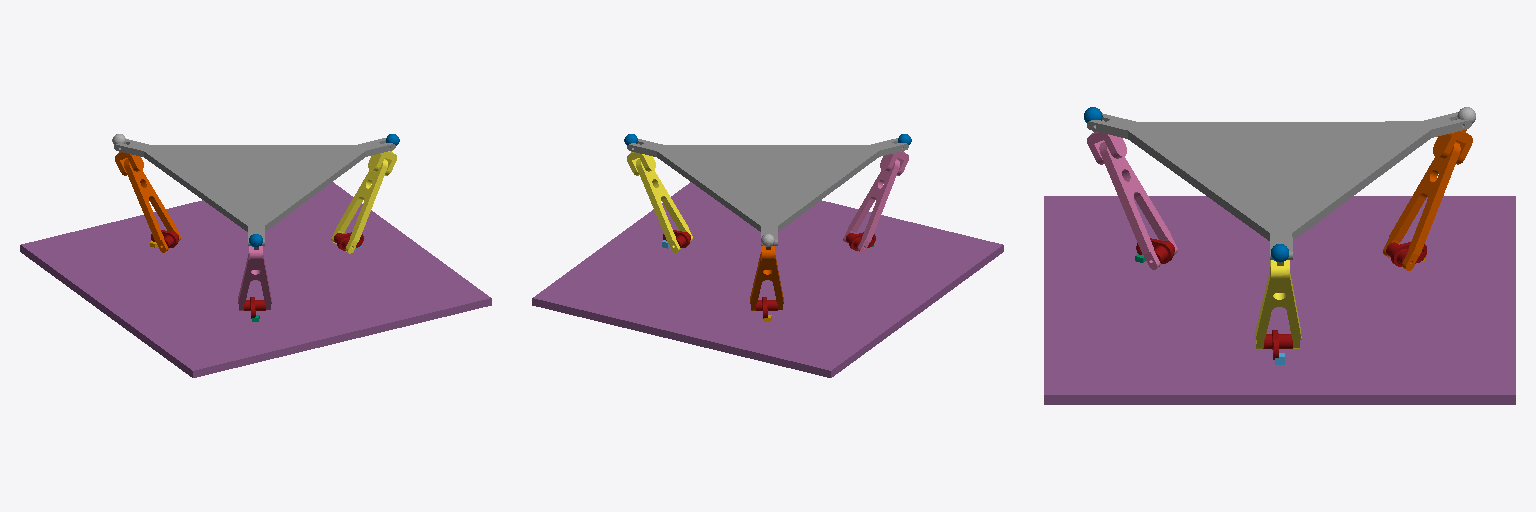
The robot description file, URDF, robot "stewart_platform":
<?xml version="1.0" ?>
<robot name="stewart_platform" xmlns:xacro="http://www.ros.org/wiki/xacro">
    <!-- BASE PRINCIPAL -->
<link name="base_link">
    <inertial>
        <origin xyz="0 0 0" rpy="0 0 0"/>
        <mass value="1.0"/>
        <inertia 
            ixx="0.01" iyy="0.01" izz="0.01" 
            ixy="0" ixz="0" iyz="0"/>
    </inertial>
    
    <visual>
        <origin xyz="0 0 0" rpy="0 0 0"/>
        <geometry>
            <box size="0.25 0.25 0.006"/>
        </geometry>
        <material name="gray">
            <color rgba="0.6 0.4 0.6 0.5"/>
        </material>
    </visual>

    <collision>
        <origin xyz="0 0 0" rpy="0 0 0"/>
        <geometry>
            <box size="0.25 0.25 0.006"/>
        </geometry>
    </collision>
</link>


    <!-- DOT 1 (derecha) -->
    <link name="dot1_base">
        <inertial>
            <origin xyz="0 0 0" rpy="0 0 0"/>
            <mass value="0.025"/>
            <inertia 
                ixx="1e-6" iyy="1e-6" izz="1e-6" 
                ixy="0" ixz="0" iyz="0"/>
        </inertial>
        <visual>
            <origin xyz="0 0 0" rpy="0 0 0"/>
            <geometry>
                <box size="0.005 0.005 0.005"/>
            </geometry>
            <material name="grey"/>
        </visual>
    </link>
    <joint name="joint_dot1_base" type="fixed">
        <parent link="base_link"/>
        <child link="dot1_base"/>
        <origin xyz="0.085 0 0.005" rpy="0 0 0"/>
    </joint>

    <link name="dot1">
        <inertial>
            <origin xyz="0 0 0" rpy="0 0 0"/>
            <mass value="0.025"/>
            <inertia 
                ixx="1e-6" iyy="1e-6" izz="1e-6" 
                ixy="0" ixz="0" iyz="0"/>
        </inertial>
        <visual>
            <origin xyz="-0.012 0.007 0" rpy="-1.55 1.571 3.2"/>
            <geometry>
                <mesh filename="meshes/dot.stl" scale="0.001 0.001 0.001"/>
            </geometry>
            <material name="red">
                <color rgba="0.6 0.1 0.1 1"/>
            </material>
        </visual>
        <collision>
            <origin xyz="-0.012 0.007 0" rpy="-1.55 1.571 3.2"/>
            <geometry>
                <mesh filename="meshes/dot.stl" scale="0.001 0.001 0.001"/>
            </geometry>
        </collision>
    </link>

    <joint name="joint_dot1" type="revolute">
        <parent link="dot1_base"/>
        <child link="dot1"/>
        <origin xyz="0 0 0.005" rpy="0 0 0"/> <!-- justo encima del cubito -->
        <axis xyz="0 1 0"/> <!-- eje X para que gire hacia arriba -->
        <limit lower="-1.57" upper="1.57" effort="1" velocity="1"/>
    </joint>

    <link name="arm1">
        <inertial>
            <origin xyz="0 0 0" rpy="0 0 0"/>
            <mass value="0.03"/> <!-- Aproximadamente 30g si es PLA -->
            <inertia 
                ixx="1e-6" iyy="1e-6" izz="1e-6" 
                ixy="0" ixz="0" iyz="0"/>
        </inertial>

        <visual>
            <origin xyz="0.0314 0.000 0.0583" rpy="2.1 0 1.6"/>
            <geometry>
                <mesh filename="meshes/arm.stl" scale="0.001 0.001 0.001"/>
            </geometry>
            <material name="blue"/>
        </visual>

        <collision>
            <origin xyz="0.0314 0.000 0.0583" rpy="2.1 0 1.6"/>
            <geometry>
                <mesh filename="meshes/arm.stl" scale="0.001 0.001 0.001"/>
            </geometry>
        </collision>
    </link>


    <joint name="joint_arm1" type="revolute">
        <parent link="dot1"/>
        <child link="arm1"/>
        <origin xyz="-0.012 0 -0.00" rpy="0 0 0"/>
        <axis xyz="0 1 0"/> <!-- Eje de rotación: X -->
        <limit lower="-1.57" upper="1.57" effort="1.0" velocity="1.0"/>
    </joint>

<link name="arm1_tip">
    <inertial>
        <origin xyz="0 0 0" rpy="0 0 0"/>
        <mass value="0.01"/> <!-- Aproximadamente 10g -->
        <inertia 
            ixx="1e-6" iyy="1e-6" izz="1e-6" 
            ixy="0" ixz="0" iyz="0"/>
    </inertial>

    <visual>
        <origin xyz="0 0 0.0" rpy="0 0 0"/>
        <geometry>
            <sphere radius="0.005"/>
        </geometry>
        <material name="green"/>
    </visual>

    <collision>
        <origin xyz="0 0 0.0" rpy="0 0 0"/>
        <geometry>
            <sphere radius="0.005"/>
        </geometry>
    </collision>
</link>


    <joint name="joint_arm1_tip_x" type="revolute">
        <parent link="arm1"/>
        <child link="arm1_tip"/>
        <origin xyz="0.0415 0.0 0.071" rpy="0 0 0"/> <!-- ajustar según longitud exacta del brazo -->
        <axis xyz="1 0 0"/>
        <limit lower="-1.57" upper="1.57" effort="1" velocity="1"/>
    </joint>
    <joint name="joint_arm1_tip_y" type="revolute">
        <parent link="arm1_tip"/>
        <child link="top"/>
        <origin xyz="0 0 0" rpy="0 0 0"/> 
        <axis xyz="0 1 0"/>
        <limit lower="-1.57" upper="1.57" effort="1" velocity="1"/>
    </joint>
    
<link name="arm2">
    <inertial>
        <origin xyz="0 0 0" rpy="0 0 0"/>
        <mass value="0.025"/> <!-- Aproximadamente 25g -->
        <inertia 
            ixx="1e-5" iyy="1e-5" izz="1e-5" 
            ixy="0" ixz="0" iyz="0"/>
    </inertial>

    <visual>
        <origin xyz="0.0314 0.000 0.0583" rpy="2.1 0 1.6"/>
        <geometry>
            <mesh filename="meshes/arm.stl" scale="0.001 0.001 0.001"/>
        </geometry>
        <material name="blue"/>
    </visual>

    <collision>
        <origin xyz="0.0314 0.000 0.0583" rpy="2.1 0 1.6"/>
        <geometry>
            <mesh filename="meshes/arm.stl" scale="0.001 0.001 0.001"/>
        </geometry>
    </collision>
</link>


    <joint name="joint_arm2" type="revolute">
        <parent link="dot2"/>
        <child link="arm2"/>
        <origin xyz="-0.012 0 -0.00" rpy="0 0 0"/>
        <axis xyz="0 1 0"/>
        <limit lower="-1.57" upper="1.57" effort="1.0" velocity="1.0"/>
    </joint>

<link name="arm3">
    <inertial>
        <origin xyz="0 0 0" rpy="0 0 0"/>
        <mass value="0.025"/> <!-- Masa estimada para brazo impreso en PLA -->
        <inertia 
            ixx="1e-5" iyy="1e-5" izz="1e-5" 
            ixy="0" ixz="0" iyz="0"/>
    </inertial>

    <visual>
        <origin xyz="0.0314 0.000 0.0583" rpy="2.1 0 1.6"/>
        <geometry>
            <mesh filename="meshes/arm.stl" scale="0.001 0.001 0.001"/>
        </geometry>
        <material name="blue"/>
    </visual>

    <collision>
        <origin xyz="0.0314 0.000 0.0583" rpy="2.1 0 1.6"/>
        <geometry>
            <mesh filename="meshes/arm.stl" scale="0.001 0.001 0.001"/>
        </geometry>
    </collision>
</link>


<link name="arm2_tip">
    <inertial>
        <origin xyz="0 0 0" rpy="0 0 0"/>
        <mass value="0.005"/> <!-- Muy ligera, es solo una esfera de marcador -->
        <inertia 
            ixx="1e-6" iyy="1e-6" izz="1e-6" 
            ixy="0" ixz="0" iyz="0"/>
    </inertial>

    <visual>
        <origin xyz="0 0 0.0" rpy="0 0 0"/>
        <geometry>
            <sphere radius="0.005"/>
        </geometry>
        <material name="green"/>
    </visual>

    <collision>
        <origin xyz="0 0 0.0" rpy="0 0 0"/>
        <geometry>
            <sphere radius="0.005"/>
        </geometry>
    </collision>
</link>


    <joint name="joint_arm2_tip_x" type="revolute">
        <parent link="arm2"/>
        <child link="arm2_tip"/>
        <origin xyz="0.0415 0.0 0.071" rpy="0 0 0"/>  <!-- Longitud del brazo -->
        <axis xyz="1 0 0"/>
        <limit lower="-1.57" upper="1.57" effort="1" velocity="1"/>
    </joint>
    <!--     <joint name="joint_arm2_tip_y" type="revolute">
        <parent link="arm2_tip"/>
        <child link="top"/>
        <origin xyz="0 0 0" rpy="0 0 0"/>
        <axis xyz="0 1 0"/>
        <limit lower="-1.57" upper="1.57" effort="1" velocity="1"/>
    </joint> -->

    <joint name="joint_arm3" type="revolute">
        <parent link="dot3"/>
        <child link="arm3"/>
        <origin xyz="-0.012 0 -0.00" rpy="0 0 0"/>
        <axis xyz="0 1 0"/>
        <limit lower="-1.57" upper="1.57" effort="1.0" velocity="1.0"/>
    </joint>

<link name="dot2_base">
    <inertial>
        <origin xyz="0 0 0" rpy="0 0 0"/>
        <mass value="0.000125"/>
        <inertia 
            ixx="1e-7" iyy="1e-7" izz="1e-7" 
            ixy="0" ixz="0" iyz="0"/>
    </inertial>

    <visual>
        <origin xyz="0 0.00 0" rpy="0 0 0.45"/>
        <geometry>
            <box size="0.005 0.005  0.003"/>
        </geometry>
        <material name="grey"/>
    </visual>

 
</link>


    <joint name="joint_dot2_base" type="fixed">
        <parent link="base_link"/>
        <child link="dot2_base"/>
        <origin xyz="-0.0425 0.0736 0.005" rpy="0 0 0"/>
    </joint>

<link name="dot2">
    <inertial>
        <origin xyz="0 0 0" rpy="0 0 0"/>
        <mass value="0.025"/>
        <inertia 
            ixx="1e-6" iyy="1e-6" izz="1e-6" 
            ixy="0" ixz="0" iyz="0"/>
    </inertial>

    <visual>
        <origin xyz="-0.012 0.007 0" rpy="-1.55 1.571 3.2"/>
        <geometry>
            <mesh filename="meshes/dot.stl" scale="0.001 0.001 0.001"/>
        </geometry>
        <material name="red">
           <color rgba="0.6 0.1 0.1 1"/>
        </material>
    </visual>

    <collision>
        <origin xyz="-0.012 0.007 0" rpy="-1.55 1.571 3.2"/>
        <geometry>
            <mesh filename="meshes/dot.stl" scale="0.001 0.001 0.001"/>
        </geometry>
    </collision>
</link>


    <joint name="joint_dot2" type="revolute">
        <parent link="dot2_base"/>
        <child link="dot2"/>
        <origin xyz="0 0 0.005" rpy="0 0 2.0944"/> <!-- rotado 120° = 2π/3 -->
        <axis xyz="0 1 0"/>
        <limit lower="-1.57" upper="1.57" effort="1" velocity="1"/>
    </joint>



    <!-- DOT 3 (inferior izquierda) -->
<link name="dot3_base">
    <inertial>
        <origin xyz="0 0 0" rpy="0 0 0"/>
        <mass value="0.01"/>
        <inertia 
            ixx="1e-6" iyy="1e-6" izz="1e-6"
            ixy="0" ixz="0" iyz="0"/>
    </inertial>
    
    <visual>
        <origin xyz="0 0 0" rpy="0 0 -0.55"/>
        <geometry>
            <box size="0.005 0.005  0.003"/>
        </geometry>
        <material name="grey"/>
    </visual>
    

</link>


    <joint name="joint_dot3_base" type="fixed">
        <parent link="base_link"/>
        <child link="dot3_base"/>
        <origin xyz="-0.0425 -0.0736 0.005" rpy="0 0 0"/>
    </joint>

<link name="dot3">
    <inertial>
        <origin xyz="0 0 0" rpy="0 0 0"/>
        <mass value="0.025"/>
        <inertia 
            ixx="1e-6" iyy="1e-6" izz="1e-6" 
            ixy="0" ixz="0" iyz="0"/>
    </inertial>

    <visual>
        <origin xyz="-0.012 0.007 0" rpy="-1.55 1.571 3.2"/>
        <geometry>
            <mesh filename="meshes/dot.stl" scale="0.001 0.001 0.001"/>
        </geometry>
        <material name="red">
            <color rgba="0.6 0.1 0.1 1"/>
        </material>
    </visual>

    <collision>
        <origin xyz="-0.012 0.007 0" rpy="-1.55 1.571 3.2"/>
        <geometry>
            <mesh filename="meshes/dot.stl" scale="0.001 0.001 0.001"/>
        </geometry>
    </collision>

</link>



    <joint name="joint_dot3" type="revolute">
        <parent link="dot3_base"/>
        <child link="dot3"/>
        <origin xyz="0 0 0.005" rpy="0 0 -2.0944"/> <!-- rotado -120° = -2π/3 -->
        <axis xyz="0 1 0"/>
        <limit lower="-1.57" upper="1.57" effort="1" velocity="1"/>
    </joint>

<link name="arm3_tip">
    <inertial>
        <origin xyz="0 0 0" rpy="0 0 0"/>
        <mass value="0.005"/>
        <inertia 
            ixx="1e-7" iyy="1e-7" izz="1e-7" 
            ixy="0" ixz="0" iyz="0"/>
    </inertial>
    
    <visual>
        <origin xyz="0 0 0" rpy="0 0 0"/>
        <geometry>
            <sphere radius="0.005"/>
        </geometry>
        <material name="green"/>
    </visual>
    
    <collision>
        <origin xyz="0 0 0" rpy="0 0 0"/>
        <geometry>
            <sphere radius="0.005"/>
        </geometry>
    </collision>
</link>


    <joint name="joint_arm3_tip_x" type="revolute">
        <parent link="arm3"/>
        <child link="arm3_tip"/>
        <origin xyz="0.0415 0.0 0.071" rpy="0 0 0"/> 
        <axis xyz="1 0 0"/>
        <limit lower="-1.57" upper="1.57" effort="1" velocity="1"/>
    </joint>
    <!-- 
    <joint name="joint_arm3_tip_y" type="revolute">
        <parent link="arm3_tip"/>
        <child link="top"/>

        <origin xyz="0 0 0" rpy="0 0 0"/>
        <axis xyz="0 1 0"/>
        <limit lower="-1.57" upper="1.57" effort="1" velocity="1"/>
    </joint> -->

<link name="top">
    <visual>
        <origin xyz="-0.115 0 -0.005" rpy="0 0 -0.15"/> 
        <geometry>
            <mesh filename="meshes/triangle_filled.stl" scale="0.001 0.001 0.001"/>
        </geometry>
        <material name="top_glass">
            <color rgba="0.6 0.6 0.6 0.15"/>
        </material>
    </visual>

    <collision>
        <origin xyz="-0.115 0 -0.005" rpy="0 0 -0.15"/> 
        <geometry>
            <mesh filename="meshes/triangle_filled.stl" scale="0.001 0.001 0.001"/>
        </geometry>
    </collision>
</link>

<!-- 
    <joint name="joint_top" type="revolute">
        <parent link="arm1_tip"/>
        <child link="top"/>
        <origin xyz="0 0 0.005" rpy="0 0 0"/>
        <axis xyz="1 0 0"/>
        <limit lower="-1.57" upper="1.57" effort="1" velocity="1"/>
    </joint>

 -->

</robot>

--- Facts derived from the render (not from the file) ---
Views: 3 orthographic renders of the robot side by side, from view 1: azimuth 30°, elevation 25°; view 2: azimuth 150°, elevation 25°; view 3: azimuth 270°, elevation 25°.
Model stewart_platform with 14 links and 13 joints (10 revolute, 3 fixed), rooted at base_link, posed every joint at zero.
Links seen in each view (by area): view 1: base_link, top, arm1, arm2, arm3; view 2: base_link, top, arm3, arm1, arm2; view 3: base_link, top, arm2, arm3, arm1.
Link boxes in pixels (<box>): base_link: <box>20,182,491,377</box>; top: <box>114,138,395,245</box>; arm1: <box>331,150,396,253</box>; arm2: <box>115,152,180,252</box>; arm3: <box>238,246,271,310</box>; base_link: <box>532,182,1003,377</box>; top: <box>627,138,908,245</box>; arm3: <box>843,151,908,253</box>; arm1: <box>627,151,692,252</box>; arm2: <box>750,246,783,310</box>; base_link: <box>1044,196,1515,404</box>; top: <box>1087,112,1471,259</box>; arm2: <box>1383,129,1472,270</box>; arm3: <box>1087,131,1177,269</box>; arm1: <box>1255,260,1301,348</box>.
Bounding box of the posed robot: 0.25 × 0.25 × 0.089 m (x, y, z).
7 mesh visuals loaded from 3 distinct referenced files (3 binary STL).
